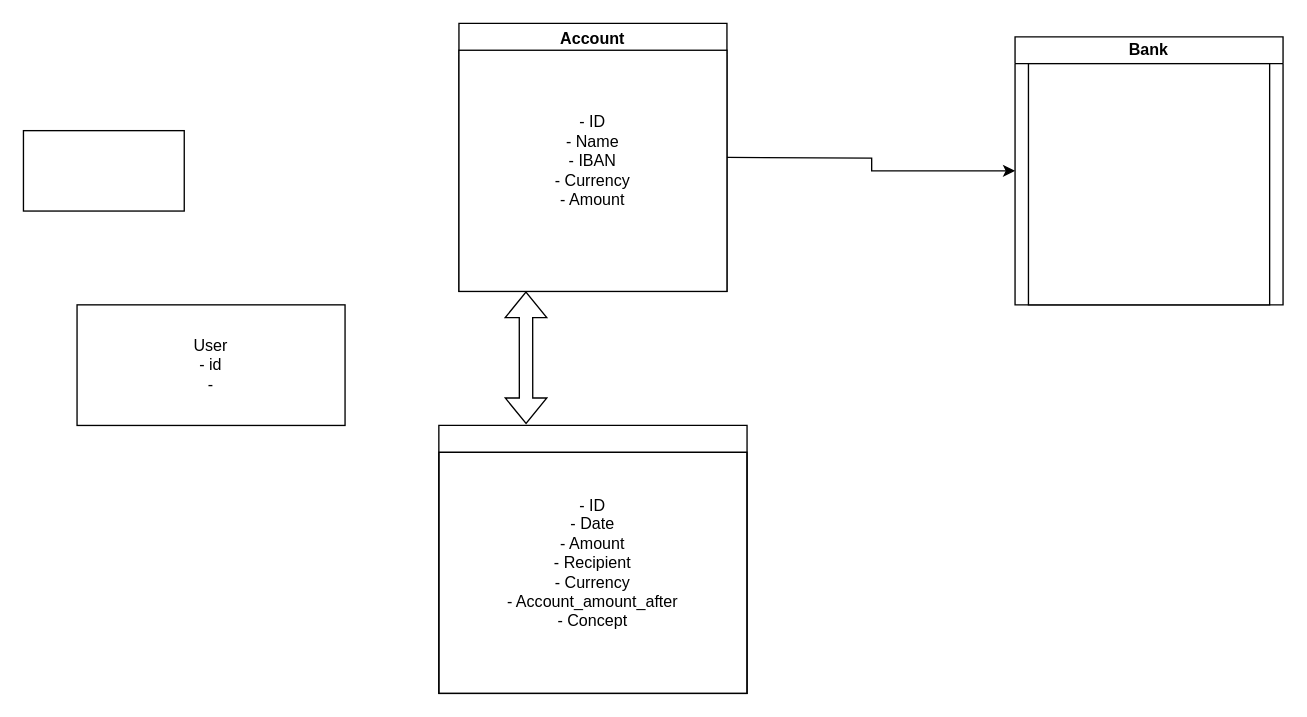
The diagram is 1307 pixels wide and 717 high, and some of its shapes have lost their labels. The shapes that lost their labels are listed below. From the top down, each one's centre as x and y in pixels, then its label:
(1148,183): - ID - nanme -country
(592,558): TRANSACTION
